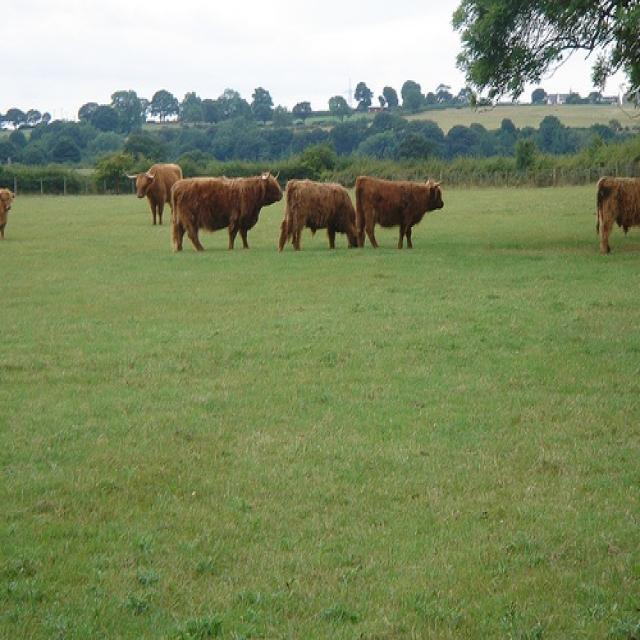cow: (171, 175, 285, 252), (356, 175, 447, 250), (283, 180, 361, 252), (125, 165, 184, 226), (598, 179, 640, 256), (2, 191, 14, 239)
